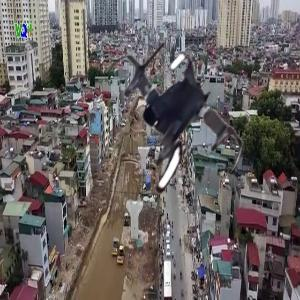drone: (79, 39, 253, 213)
